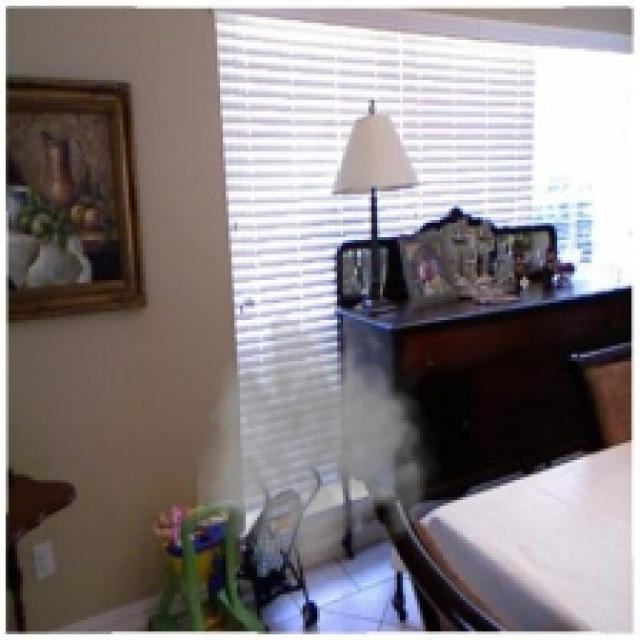Smoke: (197, 308, 446, 574)
